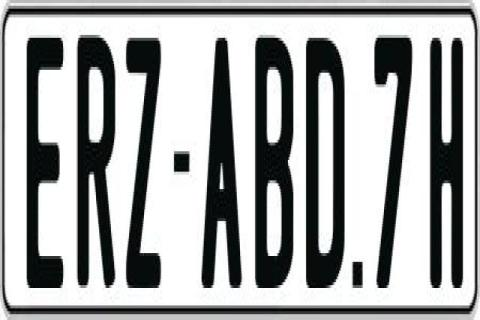0: (371, 35, 409, 288)
A: (200, 29, 240, 279)
B: (252, 35, 292, 291)
D: (306, 35, 346, 297)
E: (23, 29, 63, 297)
H: (427, 29, 465, 291)
R: (77, 35, 116, 291)
Z: (124, 38, 166, 288)
